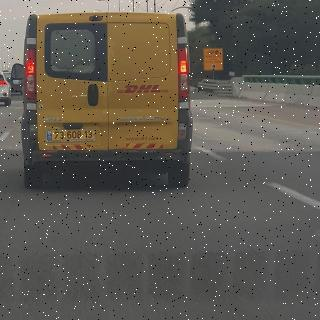LicensePlate: (52, 130, 94, 140)
